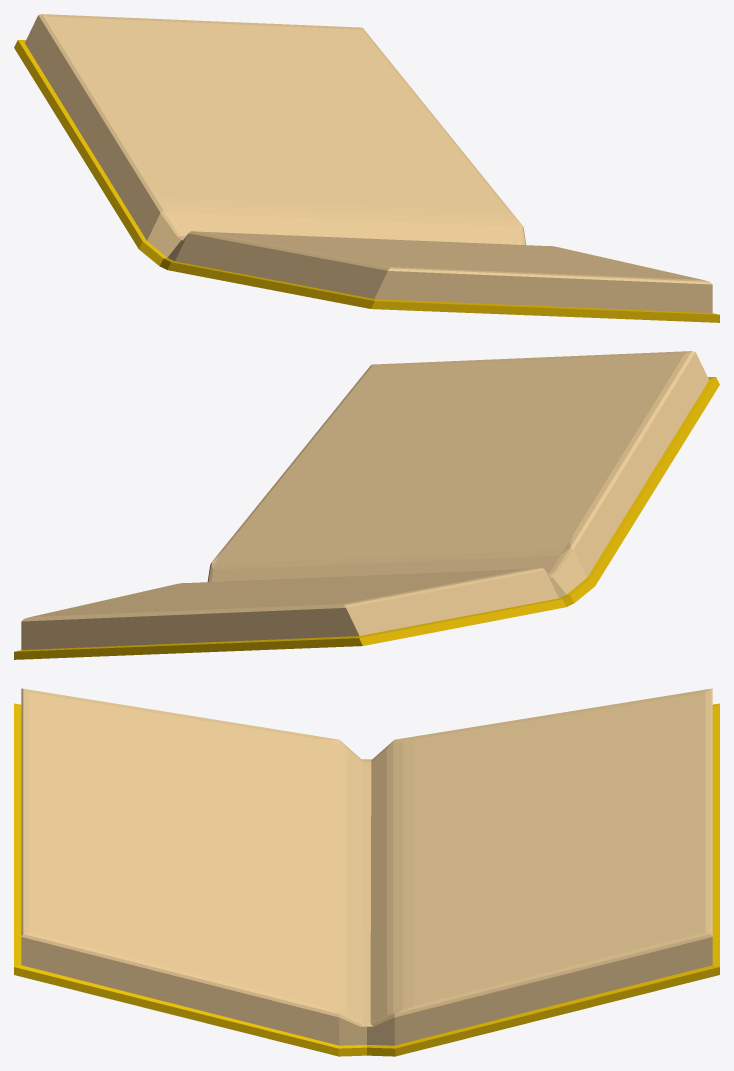
File: FloatingTome.fbx
3 renders of one model, top to bottom at view 1: azimuth 30°, elevation 25°; view 2: azimuth 150°, elevation 25°; view 3: azimuth 270°, elevation 25°, orthographic.
Visible parts, largest first — view 1: OpenFloatingBook; view 2: OpenFloatingBook; view 3: OpenFloatingBook.
Boxes of the visible parts, left/top/right/bottom form: OpenFloatingBook: left=14, top=14, right=719, bottom=322; OpenFloatingBook: left=14, top=351, right=719, bottom=659; OpenFloatingBook: left=14, top=688, right=719, bottom=1056.
Bounding box in the file's own units: 218 × 116 × 347.
